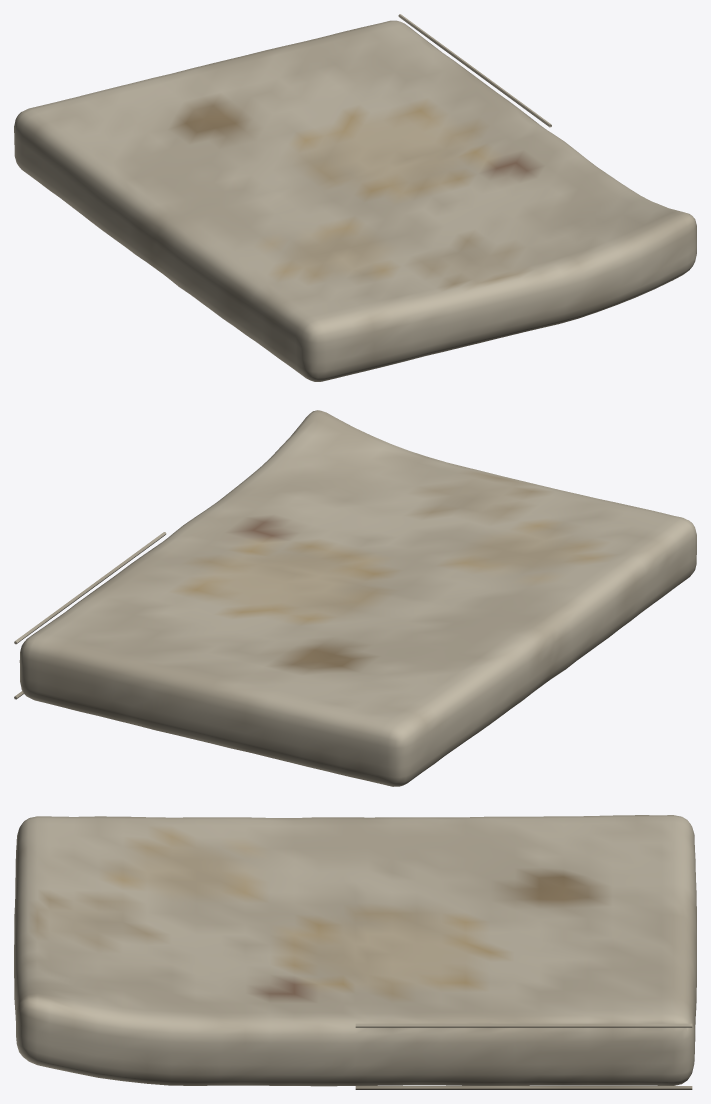
File: mattress_floor.glb
The picture shows the model from 3 angles, top to bottom: view 1: azimuth 30°, elevation 25°; view 2: azimuth 150°, elevation 25°; view 3: azimuth 270°, elevation 25°; orthographic projection. The views are drawn at different scales.
Visible parts, largest first — view 1: mattress_floor; view 2: mattress_floor; view 3: mattress_floor.
Part boxes in pixels (left/top/right/bottom): mattress_floor: left=14, top=14, right=696, bottom=381; mattress_floor: left=14, top=410, right=696, bottom=786; mattress_floor: left=14, top=815, right=696, bottom=1089.
Size of the model in its own units: 1.54 by 0.3027 by 2.05.
